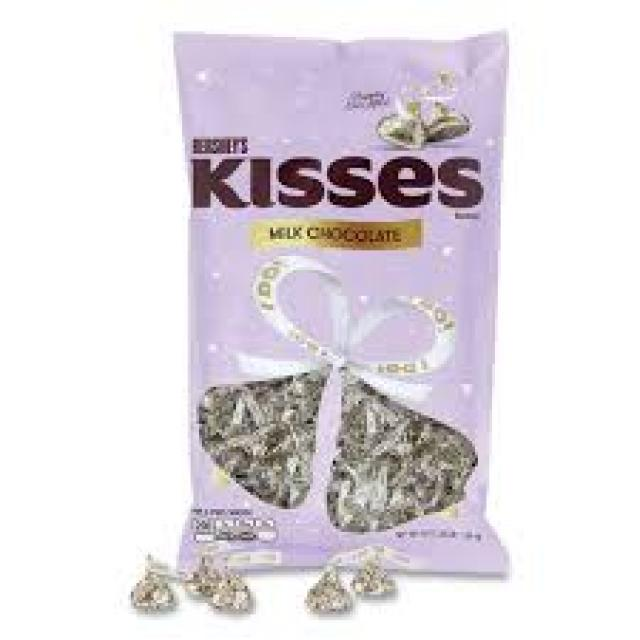kisses: (307, 563, 364, 622), (125, 563, 182, 619), (352, 552, 404, 609), (212, 574, 258, 620), (189, 556, 229, 607)
